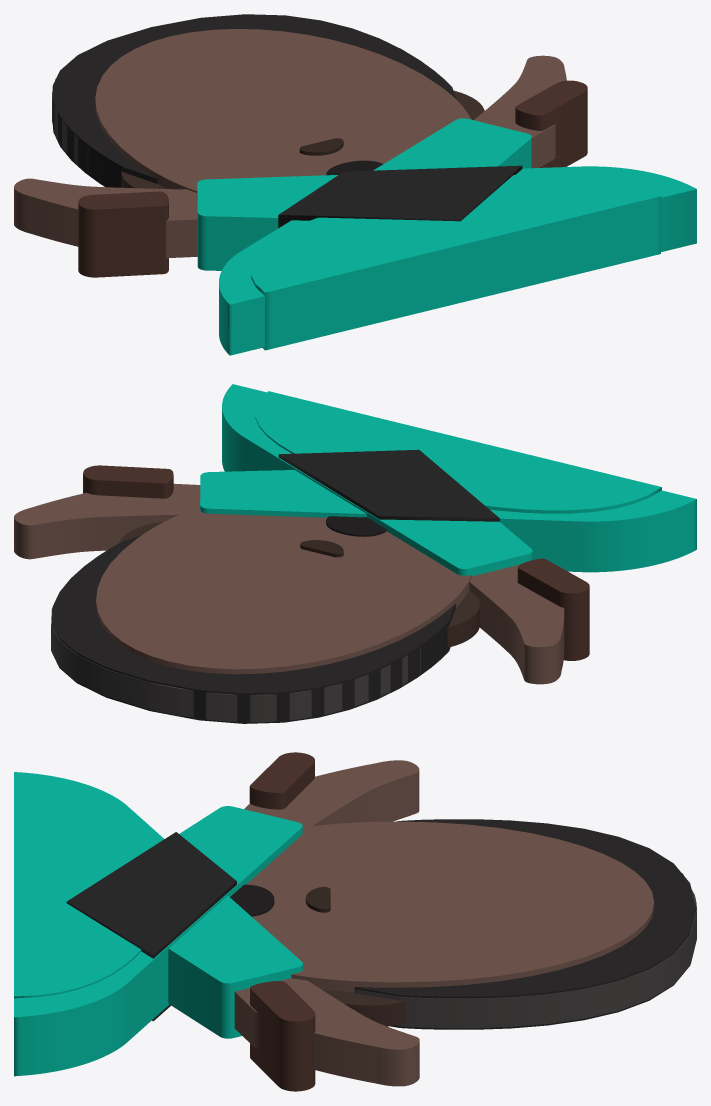
The model's file is emoji_u1f645_1f3ff_200d_2642.glb.
3 renders of one model, top to bottom at view 1: azimuth 30°, elevation 25°; view 2: azimuth 150°, elevation 25°; view 3: azimuth 270°, elevation 25°, orthographic. The views are drawn at different scales.
Parts seen in each view (by area): view 1: emoji_u1f645_1f3ff_200d_2642; view 2: emoji_u1f645_1f3ff_200d_2642; view 3: emoji_u1f645_1f3ff_200d_2642.
Boxes of the visible parts, x1,y1,x2,y2 form: emoji_u1f645_1f3ff_200d_2642: (14,14,696,355); emoji_u1f645_1f3ff_200d_2642: (14,384,696,723); emoji_u1f645_1f3ff_200d_2642: (14,752,696,1091).
Size of the model in its own units: 0.0335 by 0.004 by 0.0336.
